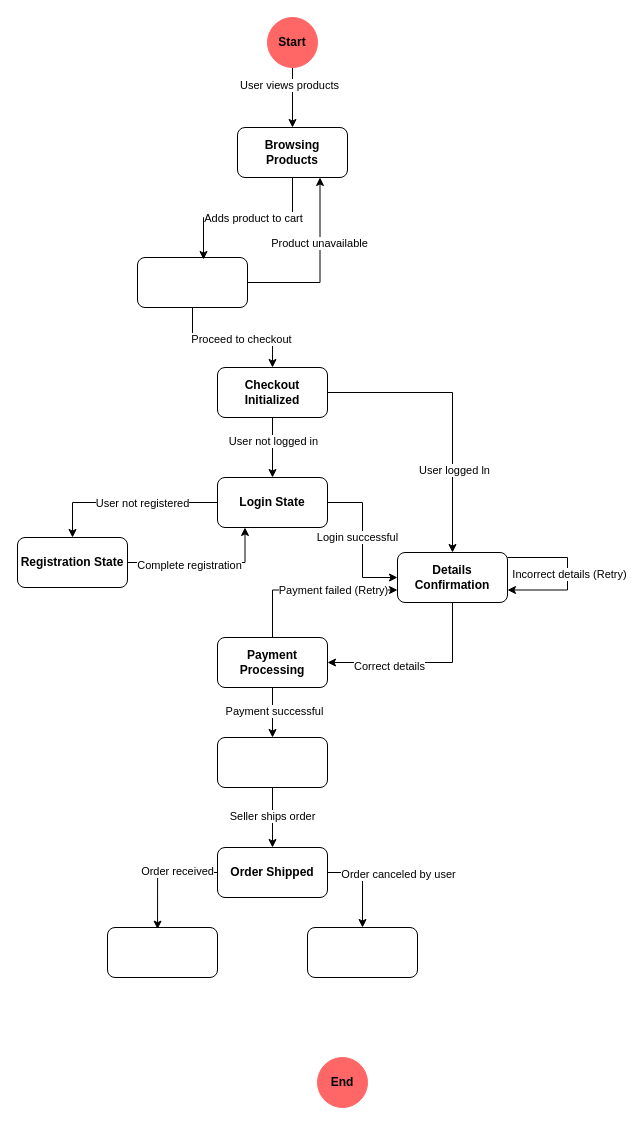
This 643x1125 diagram has some shape labels left out. Each missing label, with the centre of its shape:
"Order Canceled" belongs at (362,952).
"Order Delivered" belongs at (162,952).
"Order Placed" belongs at (272,762).
"Product Added to Cart" belongs at (192,282).
